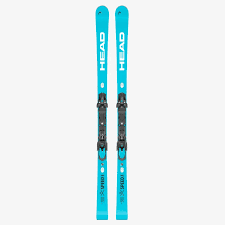skis: (93, 4, 130, 223)
